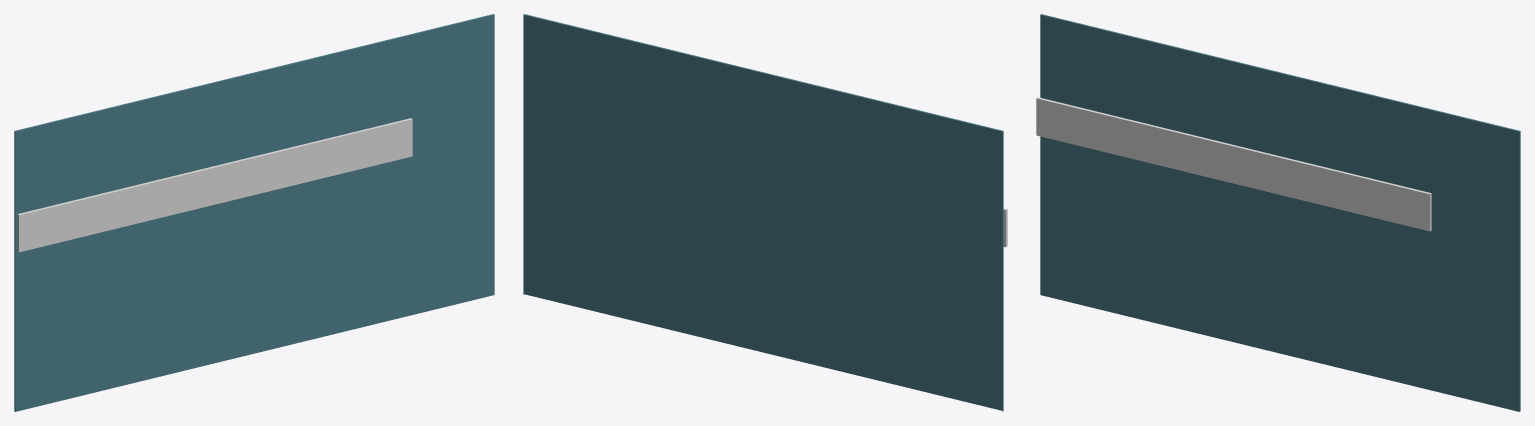
The model's file is Panel.fbx.
3 views of the same model, side by side, from view 1: azimuth 30°, elevation 25°; view 2: azimuth 150°, elevation 25°; view 3: azimuth 330°, elevation 25° (orthographic).
Visible parts, largest first — view 1: Panel, Panel2; view 2: Panel; view 3: Panel, Panel2.
Part boxes in pixels (x1=…): Panel: x1=14, y1=14, x2=494, y2=411; Panel2: x1=17, y1=118, x2=412, y2=252; Panel: x1=523, y1=14, x2=1003, y2=411; Panel: x1=1040, y1=14, x2=1520, y2=411; Panel2: x1=1036, y1=97, x2=1431, y2=231.
Size of the model in its own units: 6 by 3.35 by 0.1039.
